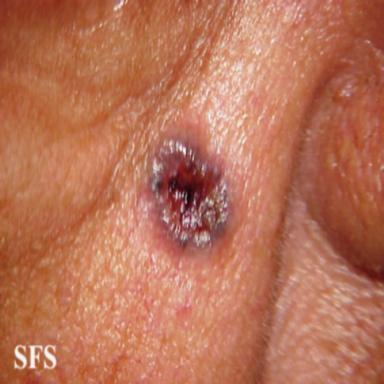basal-cell-carcinoma: (144, 132, 240, 254)
